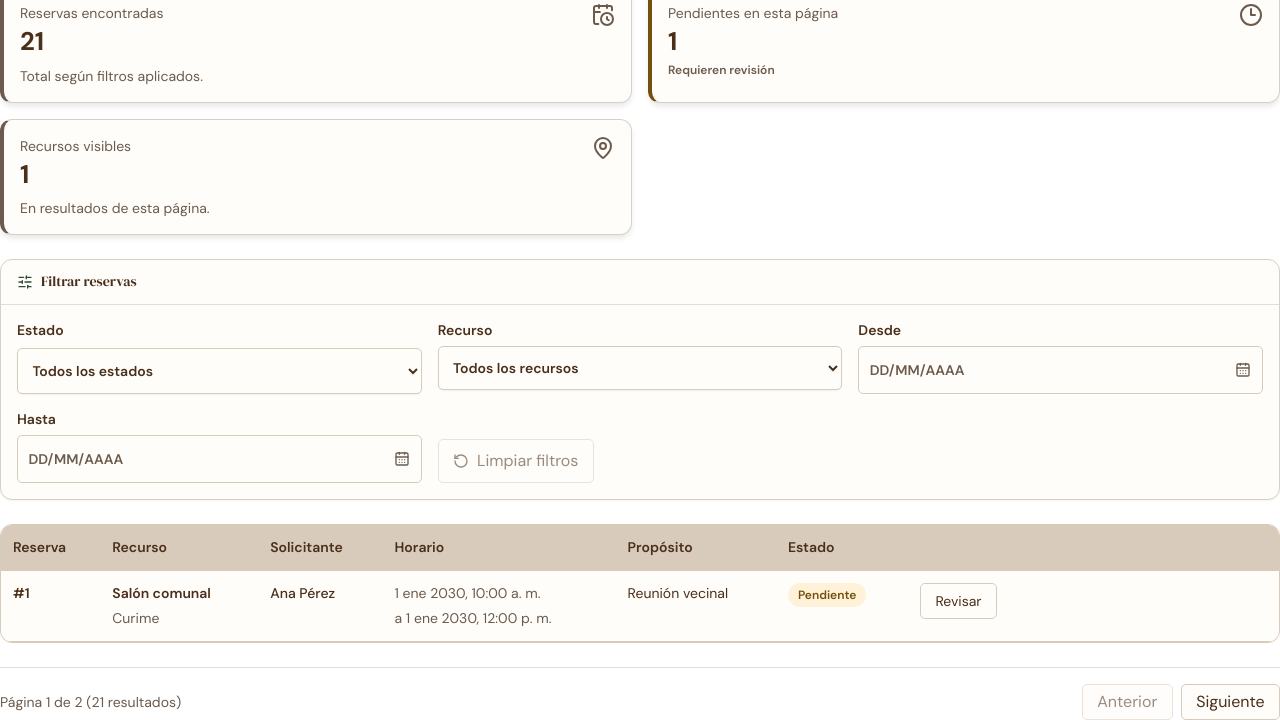
Test case: ReservationAdminPage › shows only Revisar for pending reservations and opens its authoritative detail
The width and height of the screenshot is (1280, 720).
(page scrolled)
Click the button "Revisar" at point(958, 601), box [920,583,997,619]
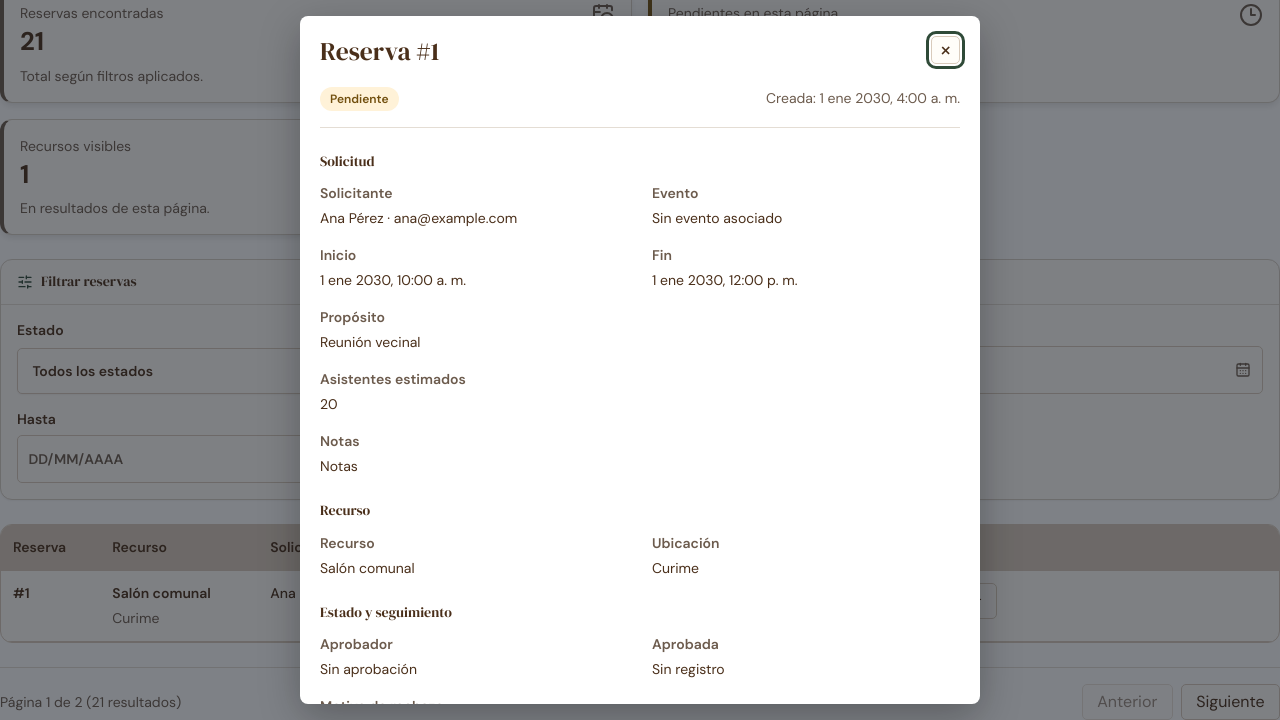
Check: the dialog "Reserva #1" is shown, box [300,16,980,704]
Check: the text "Ana Pérez · ana@example.com" is shown, box [320,209,517,227]
